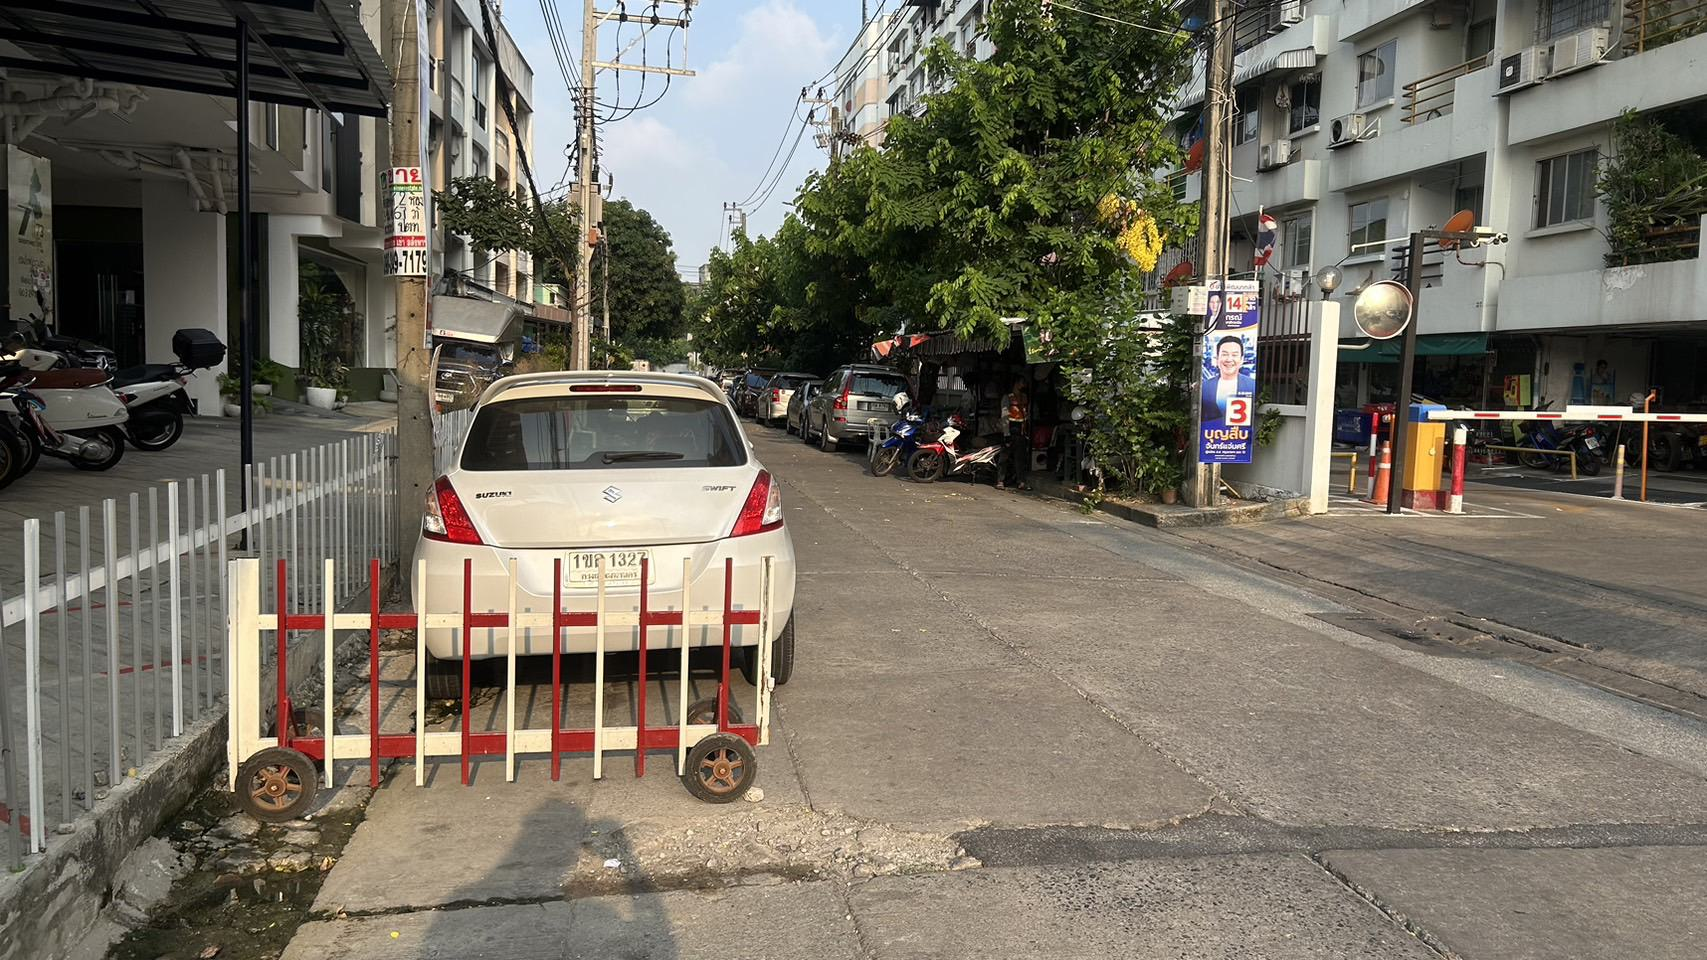Banner: (1205, 275, 1264, 472)
